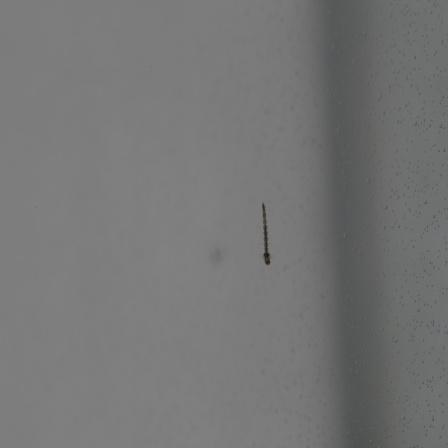Jentik-Nyamuk: (254, 198, 279, 268)
